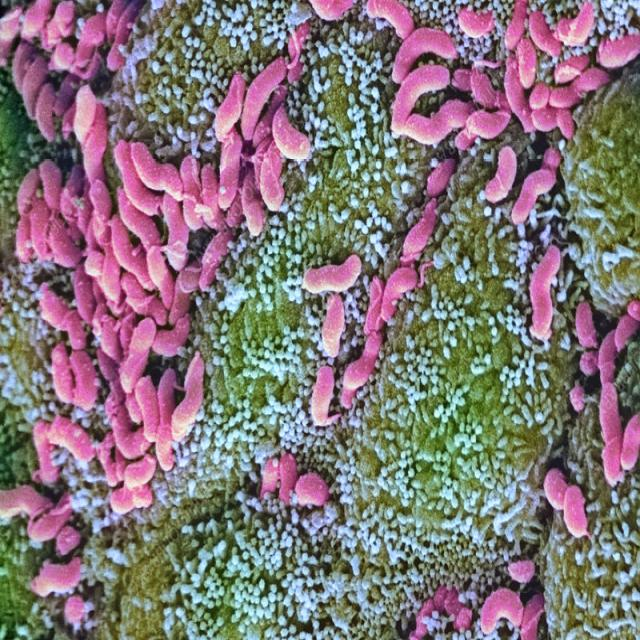Rod_bacteria: (4, 2, 638, 639)
